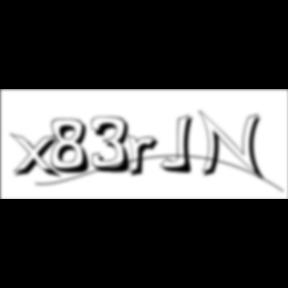3: (92, 116, 138, 176)
8: (51, 117, 96, 176)
J: (160, 114, 200, 176)
N: (198, 109, 268, 183)
r: (127, 134, 165, 180)
x: (11, 132, 66, 181)
